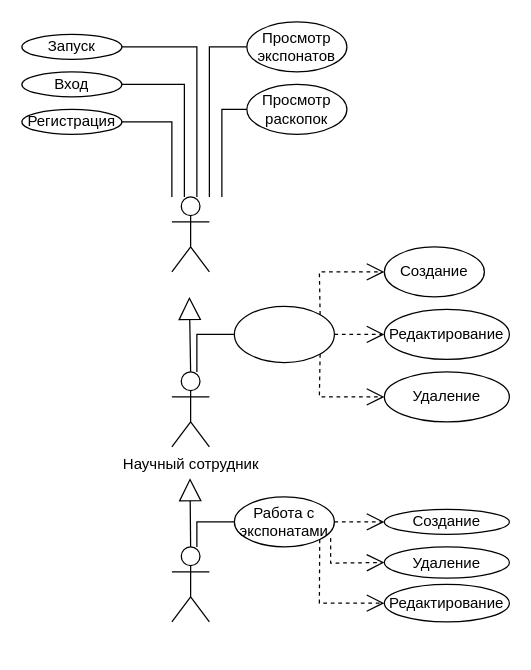
Image size: 531x670. Some labels were removed from this diagram. Here are the shapes that lost their labels. From the top down, the centre of each, then its label:
At [190,234]: "Младший научный сотрудник".
At [283,333]: "Работа с раскопками".
At [190,584]: "Старший научный сотрудник".
